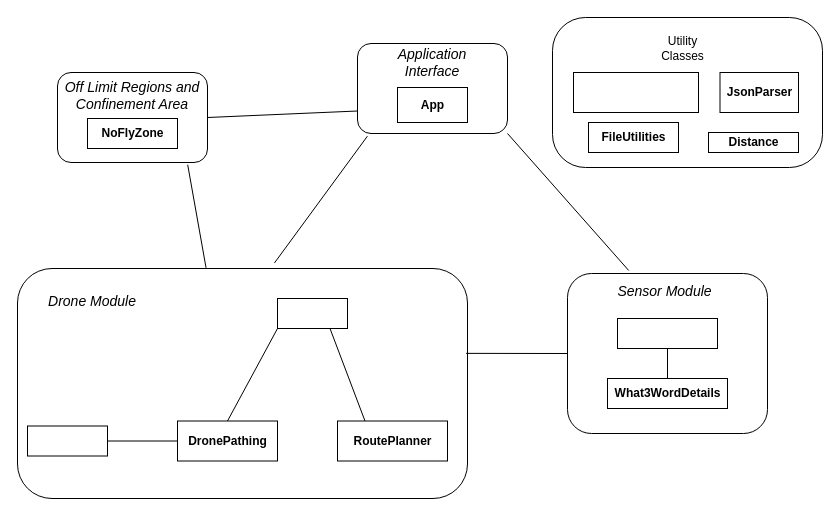
The diagram is 840 pixels wide and 516 high, and some of its shapes have lost their labels. Each missing label, with the box of its shape:
Drone: (276, 298, 348, 328)
GeoJsonDeserialiser: (572, 72, 698, 112)
PathNode: (26, 425, 108, 456)
Sensor: (616, 318, 718, 348)
